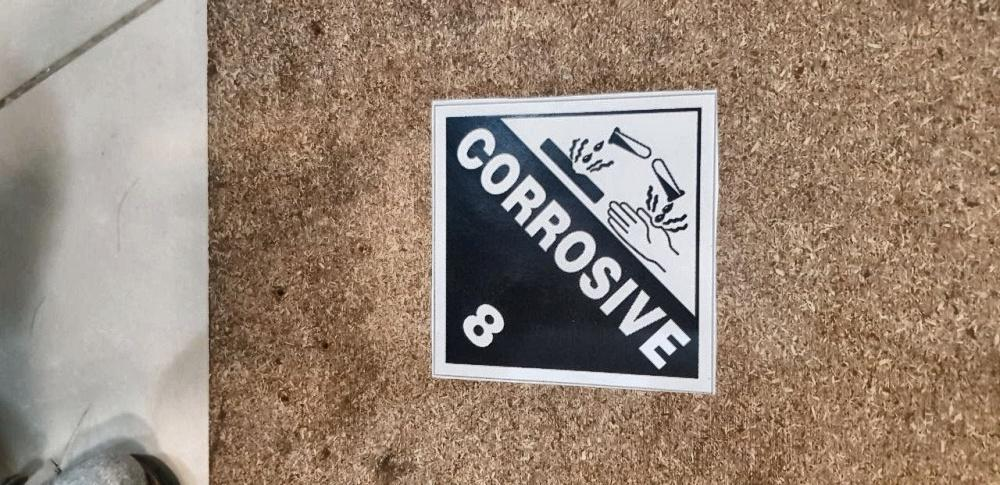corrosive: (432, 92, 719, 395)
